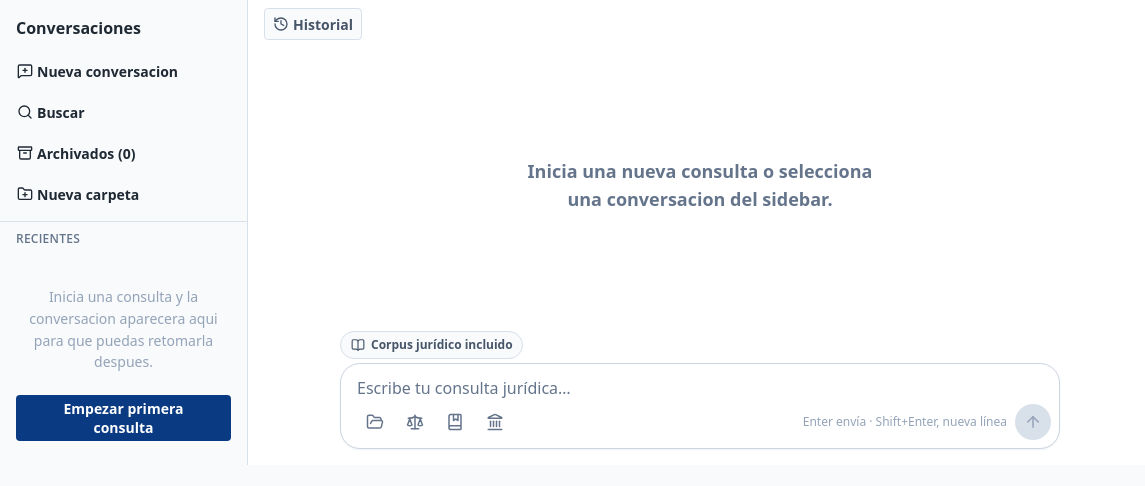
it: Asistente (chat) › turno user se muestra y bot muestra respuesta
Type "¿Como proceder ante una radicatoria?" into the text box labelled "consulta" at {"x": 704, "y": 388}, box [357,376,1051,400]
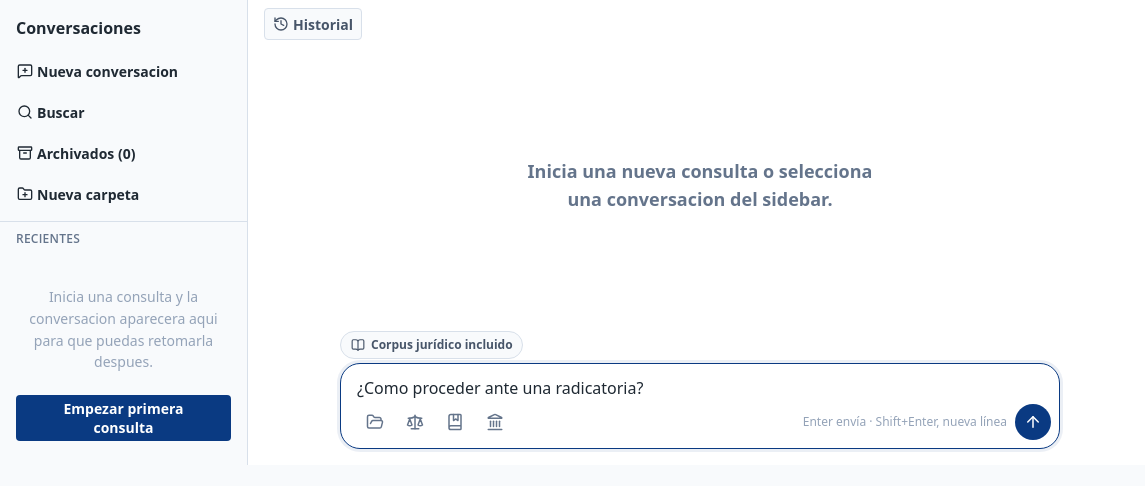
Click the button named "enviar" at {"x": 1033, "y": 422}, box [1015,404,1051,440]
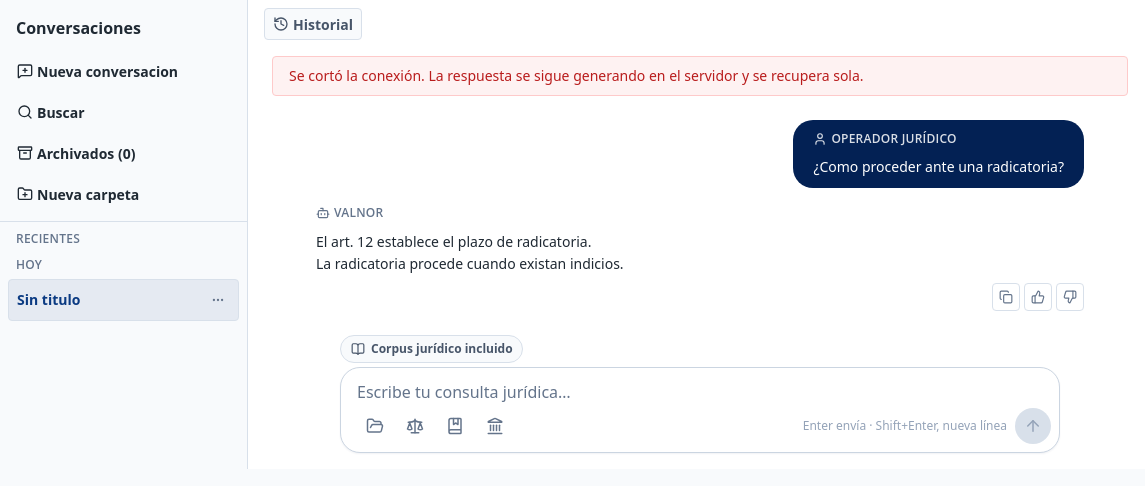
Result: the text "¿Como proceder ante una radicatoria?" is shown at [813,156,1064,178]
Result: the text "El art. 12 establece el plazo de radicatoria." is shown at [316,232,591,251]
